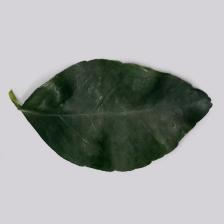healthy: (40, 76, 194, 165)
